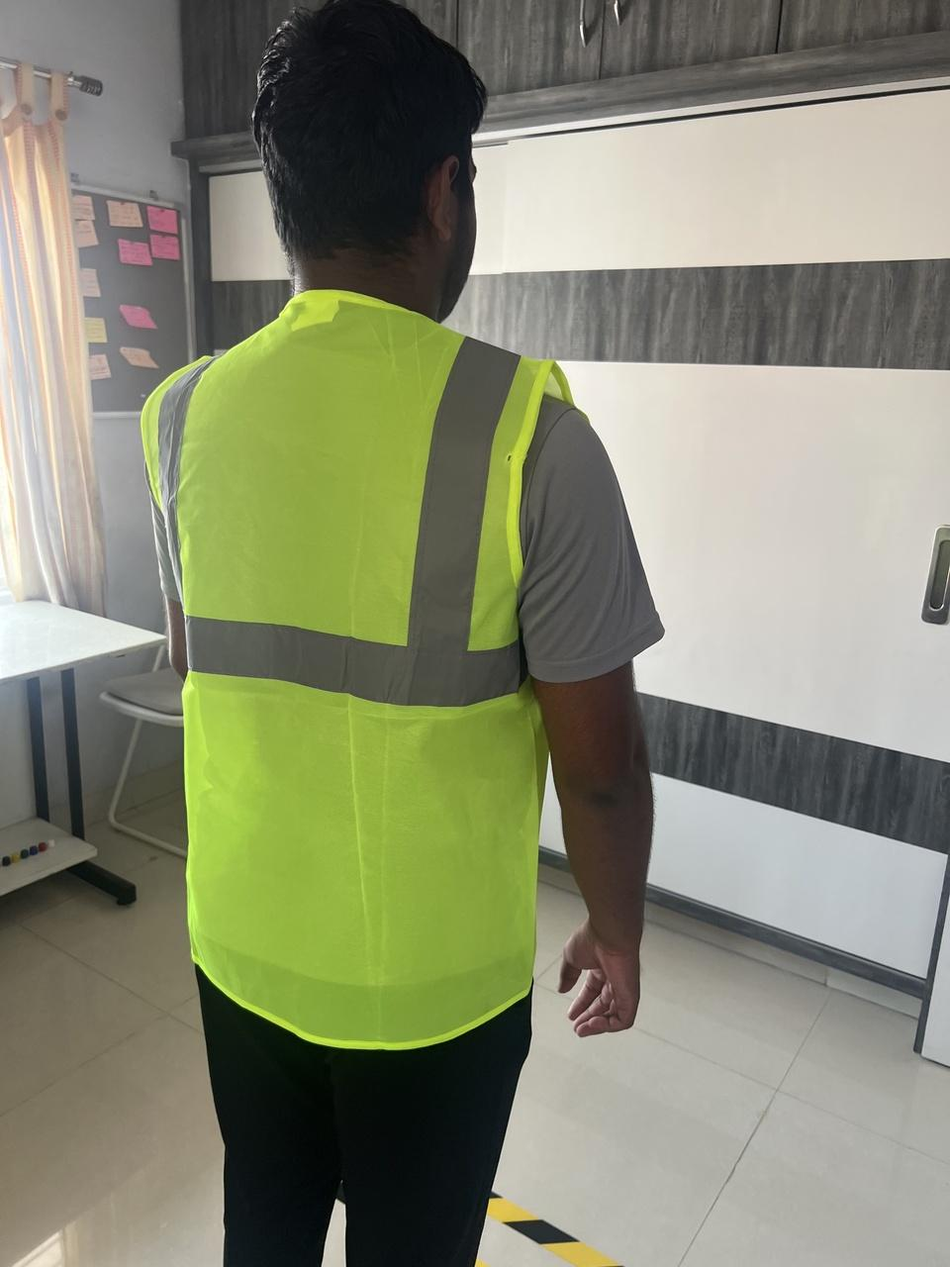BorderLine: (473, 1189, 628, 1267)
No_Helmet: (252, 0, 489, 323)
Person: (139, 0, 665, 1267)
Vest: (140, 289, 578, 1050)
